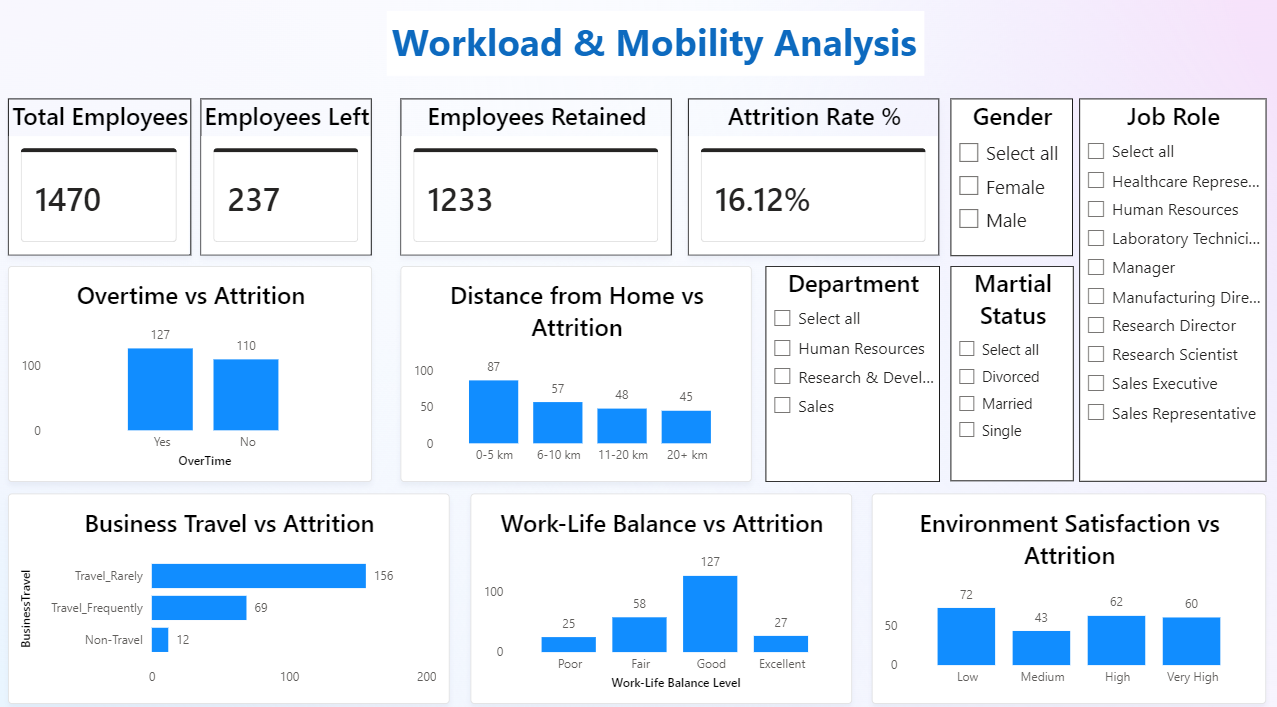

The dashboard page shown, as its layout file describes it:
{"tool":"powerbi","page":{"name":"Workload & Mobility Analysis","canvas":[1280,720],"ordinal":4},"visuals":[{"type":"clusteredColumnChart","title":"Overtime vs Attrition","fields":{"Category":["Palo Alto Networks.OverTime"],"Y":["Measures (2).Employees Left"]},"box":[10,270,364.3,215.7],"z":0},{"type":"clusteredBarChart","title":"Business Travel vs Attrition","fields":{"Category":["Palo Alto Networks.BusinessTravel"],"Y":["Measures (2).Employees Left"]},"box":[10,497.1,441.4,210],"z":1000},{"type":"clusteredColumnChart","title":"Distance from Home vs Attrition","fields":{"Category":["Palo Alto Networks.Distance Bucket"],"Y":["Measures (2).Employees Left"]},"box":[402.9,270,351.4,215.7],"z":2000},{"type":"clusteredColumnChart","title":"Work-Life Balance vs Attrition","fields":{"Category":["Palo Alto Networks.Work-Life Balance Level"],"Y":["Measures (2).Employees Left"]},"box":[472.9,497.1,381.4,210],"z":3000},{"type":"clusteredColumnChart","title":"Environment Satisfaction vs Attrition","fields":{"Category":["Palo Alto Networks.Environment Satisfaction Level"],"Y":["Measures (2).Employees Left"]},"box":[874.3,497.1,394.3,210],"z":4000},{"type":"slicer","title":"Department","fields":{"Values":["Palo Alto Networks.Department"]},"box":[767.1,270,174.3,215.7],"z":5000},{"type":"slicer","title":"Job Role","fields":{"Values":["Palo Alto Networks.JobRole"]},"box":[1081.4,102.9,187.1,382.9],"z":6000},{"type":"slicer","title":"Gender","fields":{"Values":["Palo Alto Networks.Gender"]},"box":[952.6,102.7,122.3,157.7],"z":7000},{"type":"slicer","title":"Martial Status","fields":{"Values":["Palo Alto Networks.MaritalStatus"]},"box":[952.6,270.2,123.5,215.2],"z":8000},{"type":"textbox","box":[388.3,15.1,537.9,64.5],"z":9000},{"type":"cardVisual","title":"Total Employees","fields":{"Data":["Measures (2).Total Employees"]},"box":[10,102.9,182.9,157.1],"z":10000},{"type":"cardVisual","title":"Employees Left","fields":{"Data":["Measures (2).Employees Left"]},"box":[202.9,102.9,171.4,157.1],"z":11000},{"type":"cardVisual","title":"Employees Retained","fields":{"Data":["Measures (2).Employees Retained"]},"box":[402.9,102.9,271.4,157.1],"z":12000},{"type":"cardVisual","title":"Attrition Rate %","fields":{"Data":["Measures (2).Attrition Rate %"]},"box":[690,102.9,251.4,157.1],"z":13000}]}

Visuals, with their boxes in screenshot pixels (x1, y1, x2, y2), scaled from the page's 1280x720 canvas onto the 1277x707 screenshot:
"Overtime vs Attrition" clusteredColumnChart: [10, 265, 373, 477]
"Business Travel vs Attrition" clusteredBarChart: [10, 488, 450, 694]
"Distance from Home vs Attrition" clusteredColumnChart: [402, 265, 753, 477]
"Work-Life Balance vs Attrition" clusteredColumnChart: [472, 488, 852, 694]
"Environment Satisfaction vs Attrition" clusteredColumnChart: [872, 488, 1266, 694]
"Department" slicer: [765, 265, 939, 477]
"Job Role" slicer: [1079, 101, 1266, 477]
"Gender" slicer: [950, 101, 1072, 256]
"Martial Status" slicer: [950, 265, 1074, 477]
textbox: [387, 15, 924, 78]
"Total Employees" cardVisual: [10, 101, 192, 255]
"Employees Left" cardVisual: [202, 101, 373, 255]
"Employees Retained" cardVisual: [402, 101, 673, 255]
"Attrition Rate %" cardVisual: [688, 101, 939, 255]
